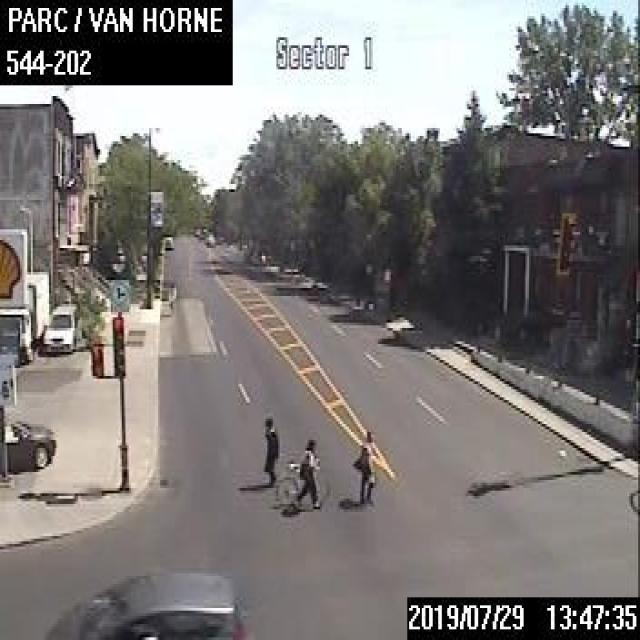pedestrian: (287, 435, 320, 512), (351, 427, 377, 504), (260, 413, 278, 488)
vehicle: (43, 566, 249, 637), (0, 271, 49, 364), (3, 417, 55, 467), (41, 300, 78, 350)
